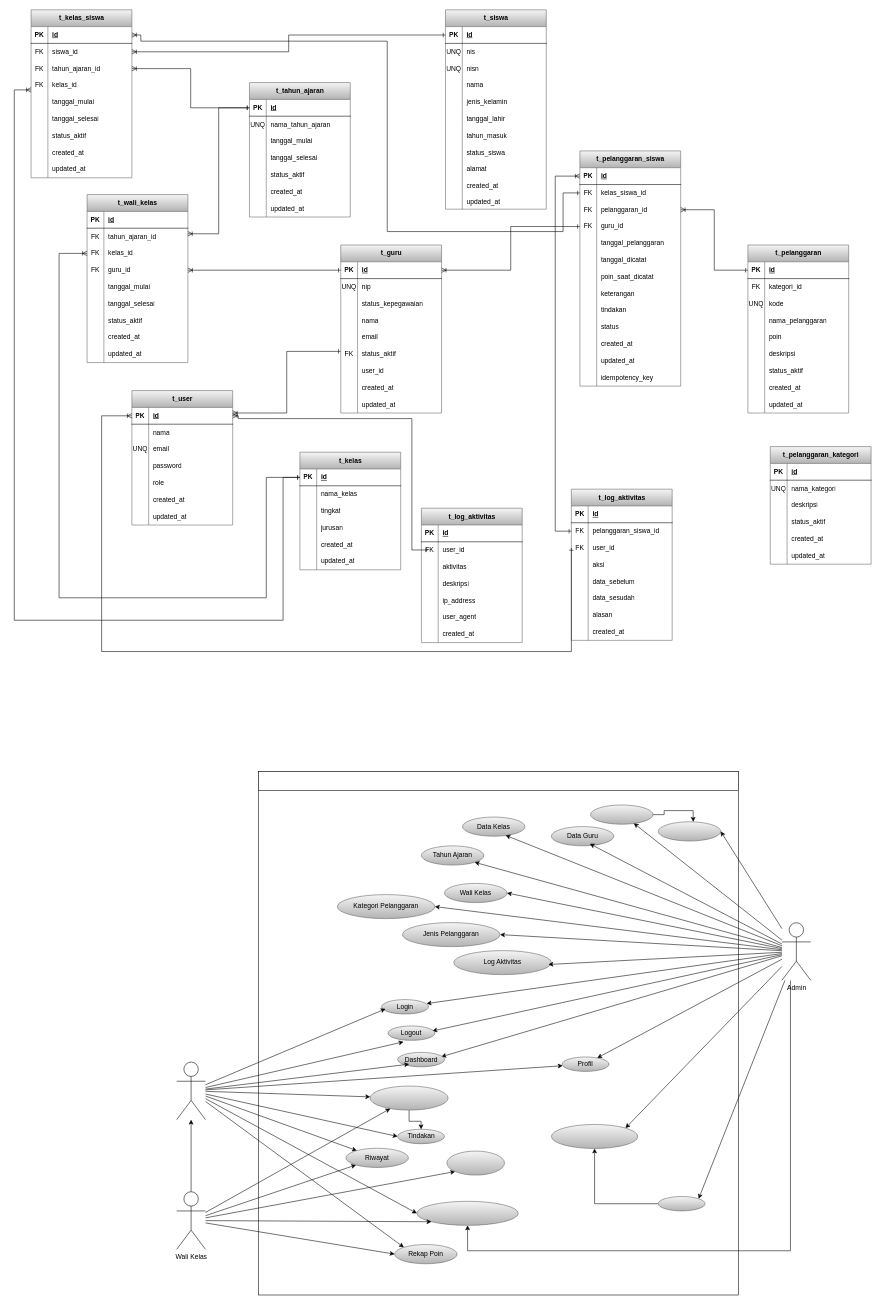
Image size: 881x1305. Some labels were removed from this diagram. Here are the shapes that lost their labels. From the top down, the centre of each, then its label:
point 498,781: Sistem InformasiPelanggaran Siswa
point 621,814: Data Siswa
point 689,831: Penempatan Siswa
point 191,1090: Guru
point 408,1098: Input Pelanggaran
point 594,1136: Cetak / Export
point 475,1163: Rekap Kelas
point 467,1213: Catatan Pelanggaran
point 681,1203: Laporan
